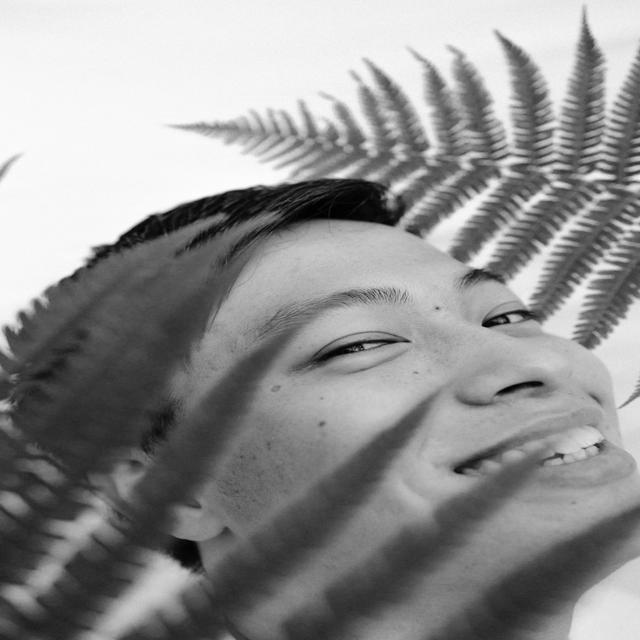Happiness: (193, 220, 640, 593)
